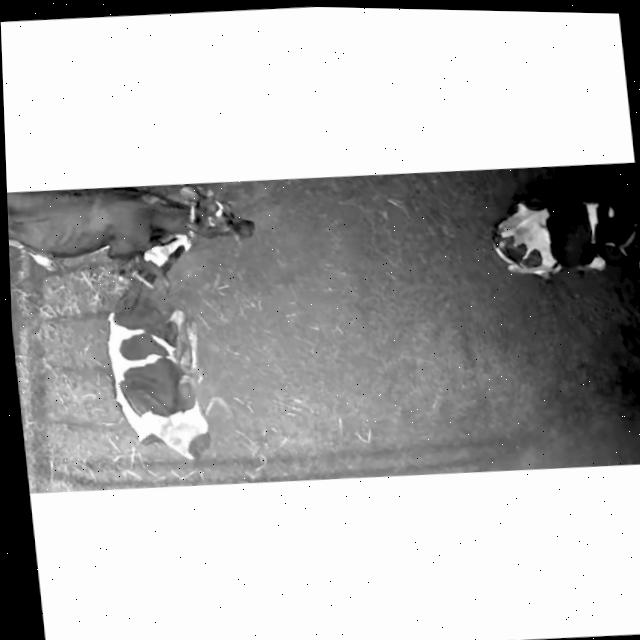lay: (84, 230, 242, 476), (470, 175, 640, 300)
